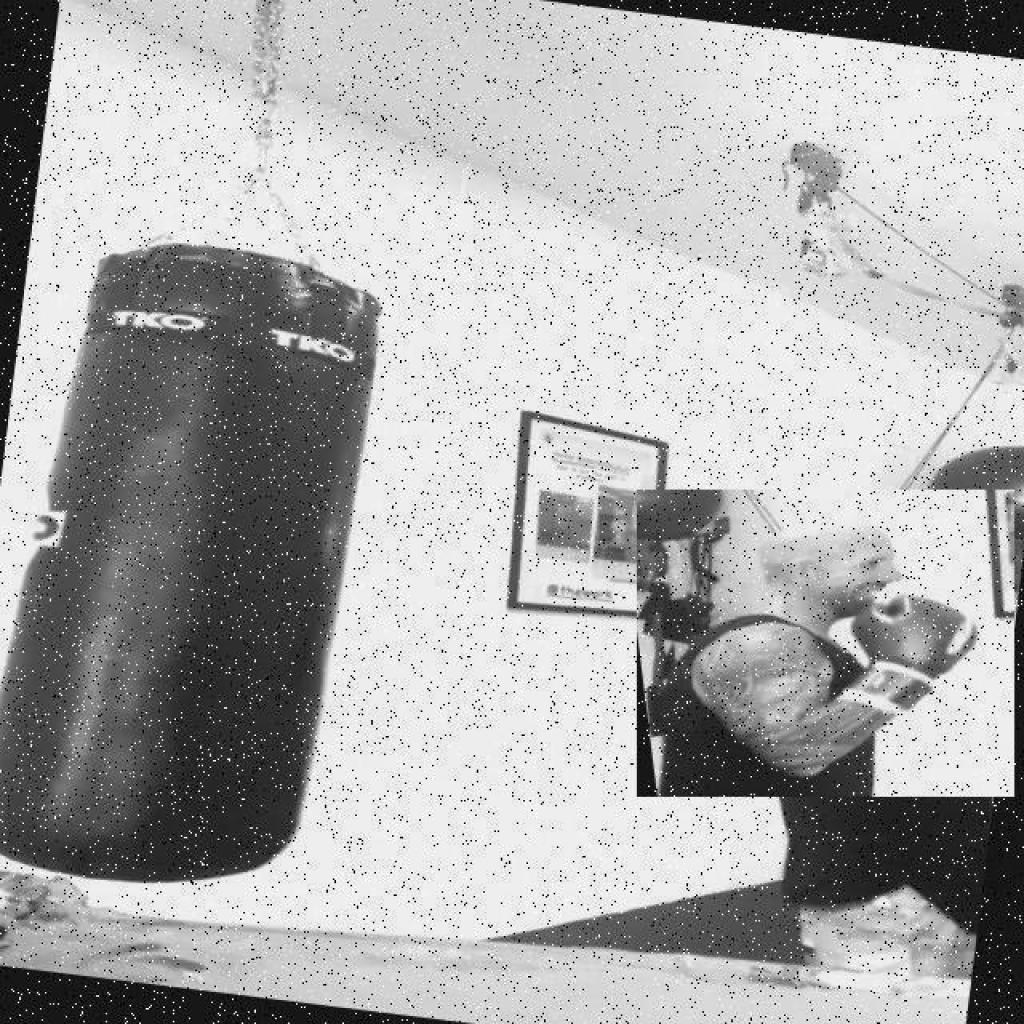bag: (0, 224, 442, 909)
no punch: (636, 490, 1014, 798)
